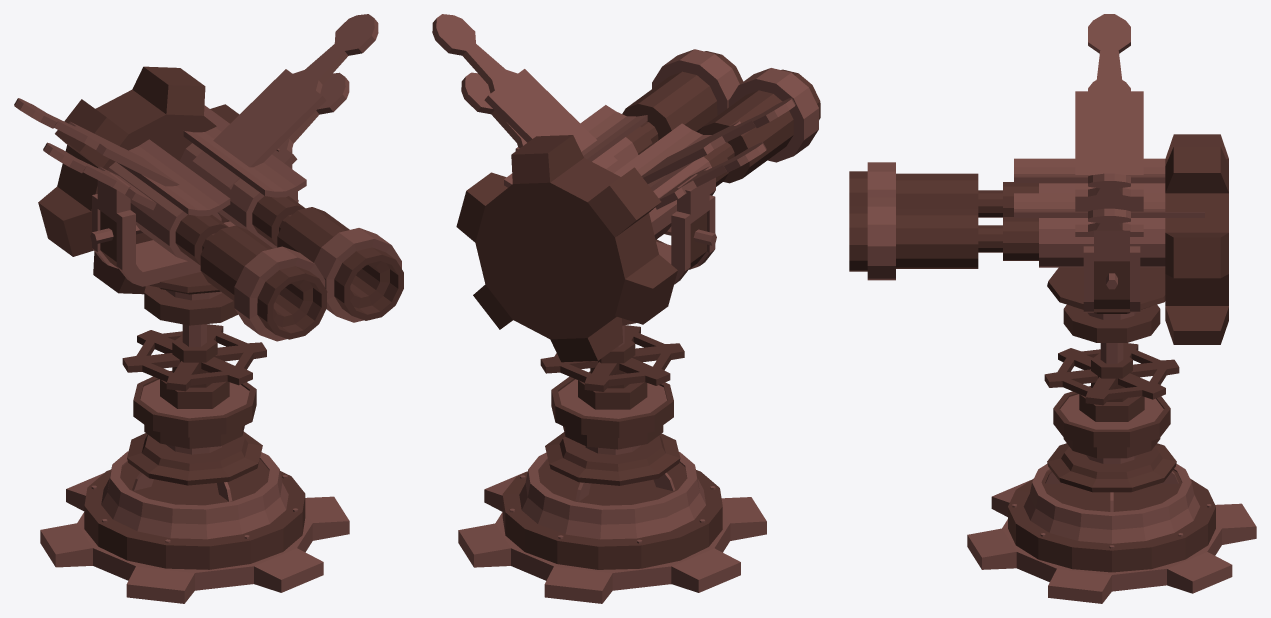
Rendered from Bomber_1.glb.
3 views of the same model, side by side, from view 1: azimuth 30°, elevation 25°; view 2: azimuth 150°, elevation 25°; view 3: azimuth 270°, elevation 25° (orthographic). The views are drawn at different scales.
Parts seen in each view (by area): view 1: Bomber_1_Gun, Bomber_1_Base, Bomber_1_Mid; view 2: Bomber_1_Gun, Bomber_1_Base, Bomber_1_Mid; view 3: Bomber_1_Gun, Bomber_1_Base, Bomber_1_Mid.
Boxes of the visible parts, x1=… form: Bomber_1_Gun: x1=14, y1=14, x2=403, y2=341; Bomber_1_Base: x1=40, y1=371, x2=349, y2=603; Bomber_1_Mid: x1=90, y1=148, x2=297, y2=408; Bomber_1_Gun: x1=432, y1=14, x2=820, y2=362; Bomber_1_Base: x1=458, y1=376, x2=766, y2=603; Bomber_1_Mid: x1=515, y1=147, x2=716, y2=409; Bomber_1_Gun: x1=849, y1=14, x2=1228, y2=344; Bomber_1_Base: x1=967, y1=386, x2=1256, y2=603; Bomber_1_Mid: x1=1044, y1=228, x2=1179, y2=421.
Size of the model in its own units: 1.84 by 2.37 by 1.94.
